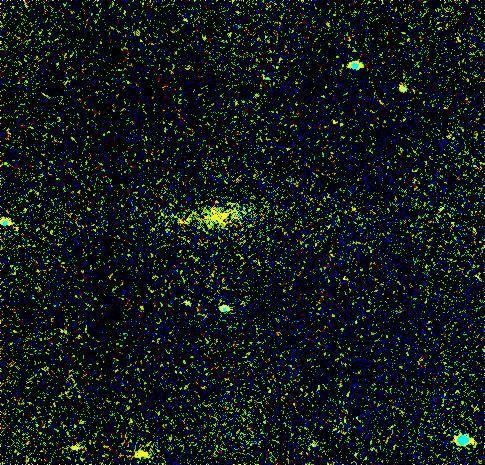star: (127, 440, 157, 465)
